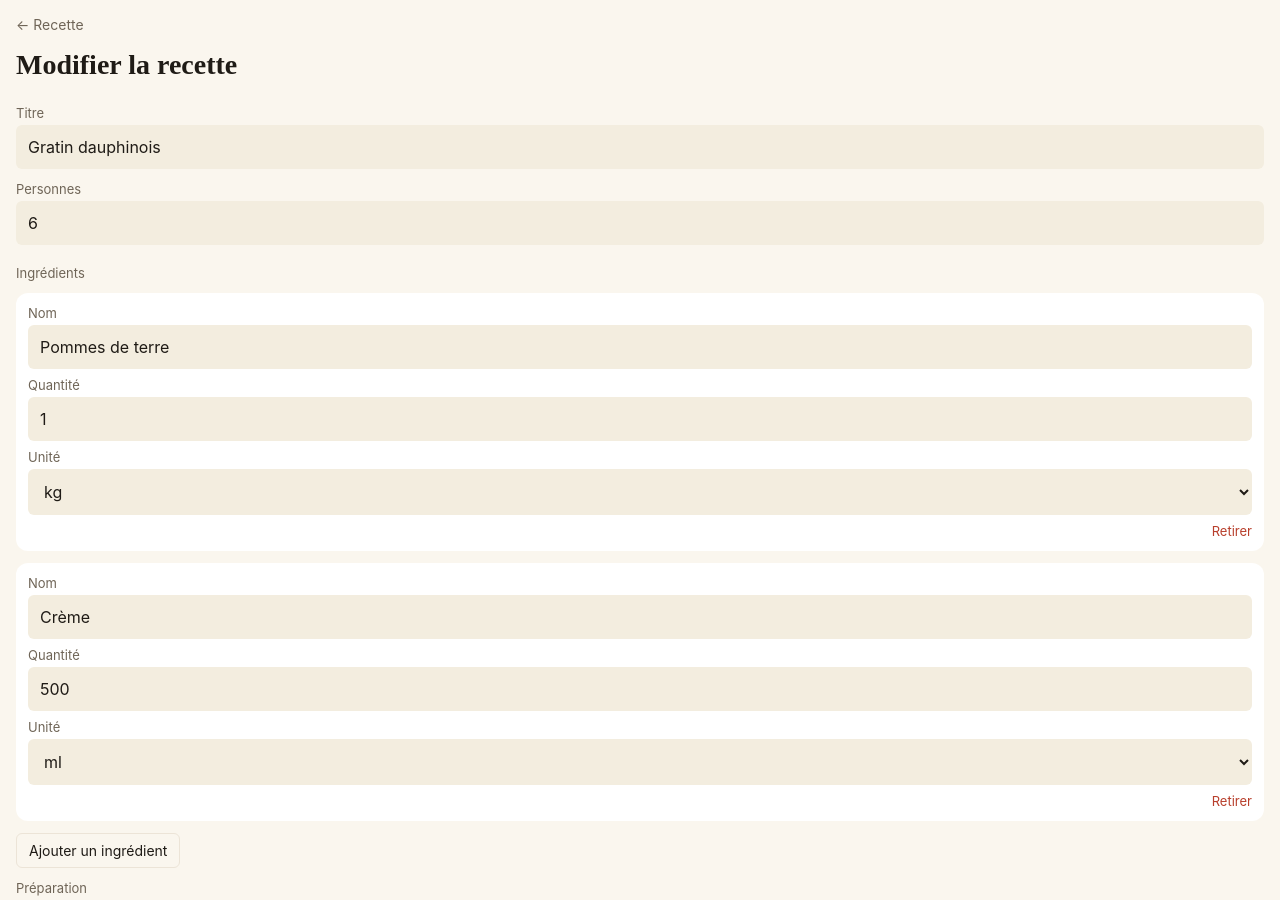
Test: RecipeEditContainer › refuse d’enregistrer une ligne d’ingrédient incomplète, sans rien envoyer
The width and height of the screenshot is (1280, 900).
Expected: the field labelled "Titre" is shown, [16,125,1264,169]
Clear the 2nd number field labelled "Quantité". click: (640, 689)
box: [28,667,1252,711]
(page scrolled)
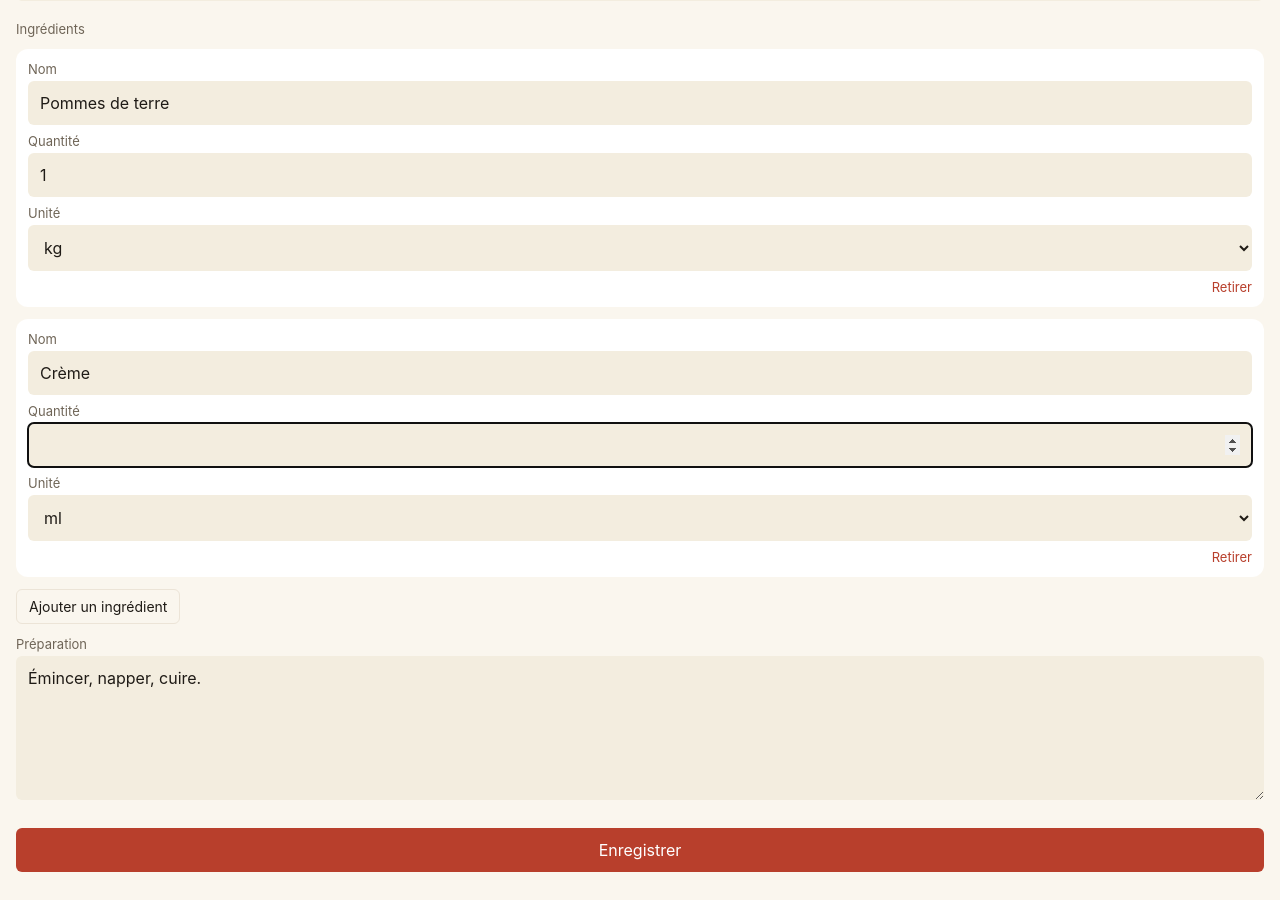
Click the button "Enregistrer". click: (640, 850)
box: [16,828,1264,872]
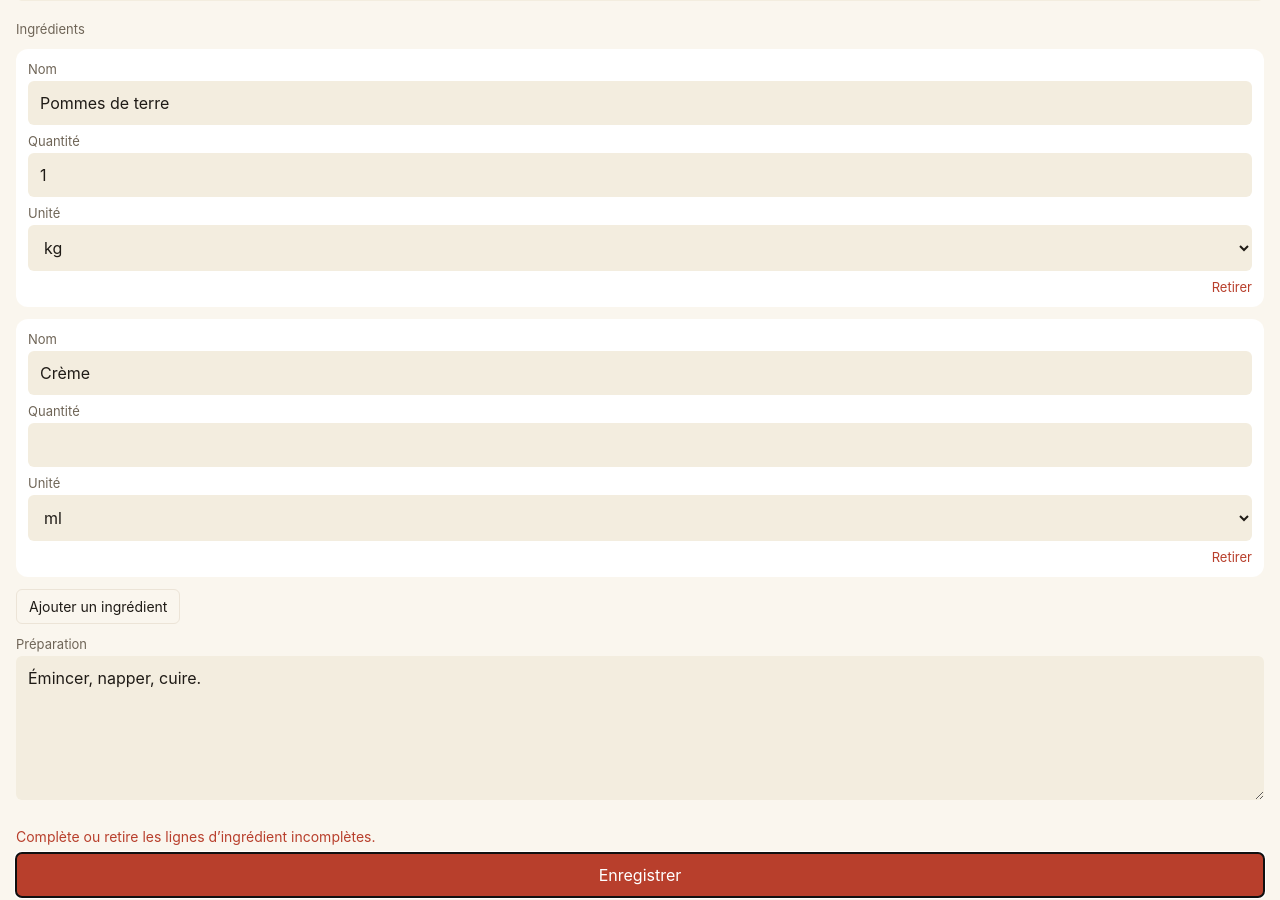
Expected: the 2nd field labelled "Nom" holds "Crème", [28,351,1252,395]
Expected: the message reads "Complète ou retire les lignes d’ingrédient incomplètes.", [16,828,376,845]
